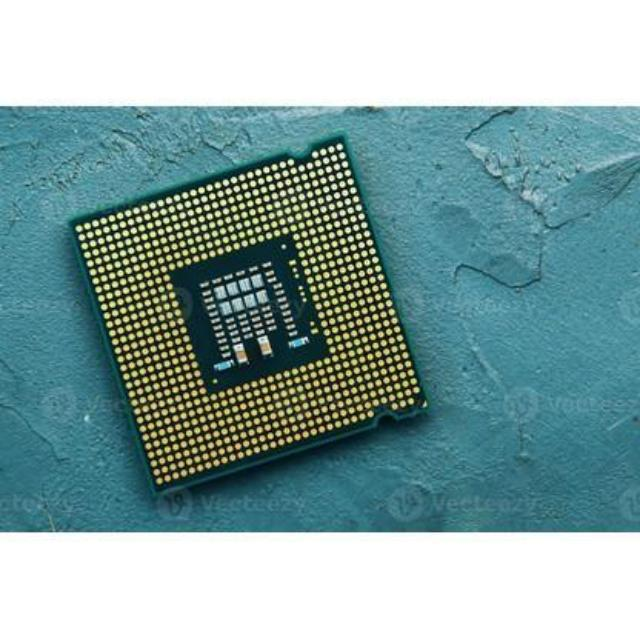CPU: (70, 140, 428, 495)
